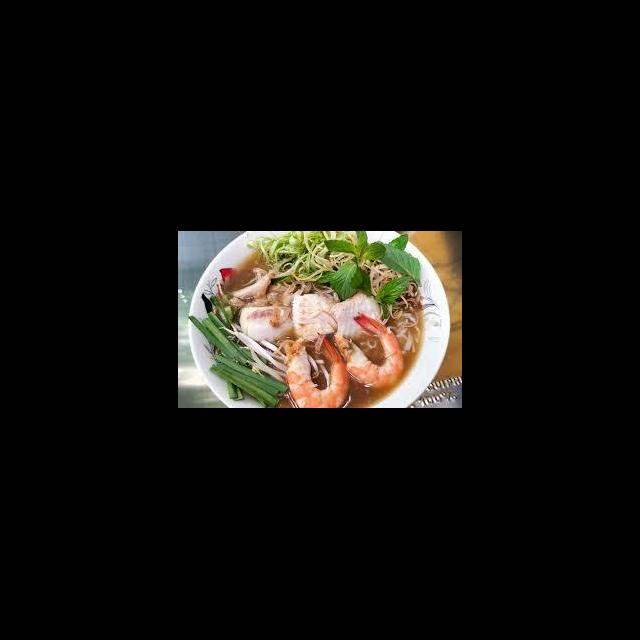ca: (329, 288, 390, 342), (289, 290, 344, 346), (235, 302, 301, 344)
tom: (329, 309, 408, 392), (282, 332, 354, 408)
